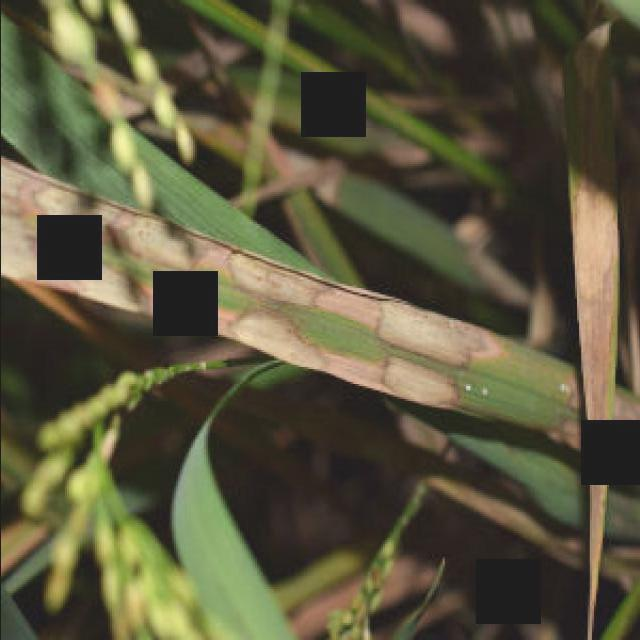Bacterial_Leaf_Blight: (2, 152, 500, 420), (566, 46, 625, 635), (554, 370, 640, 476)
